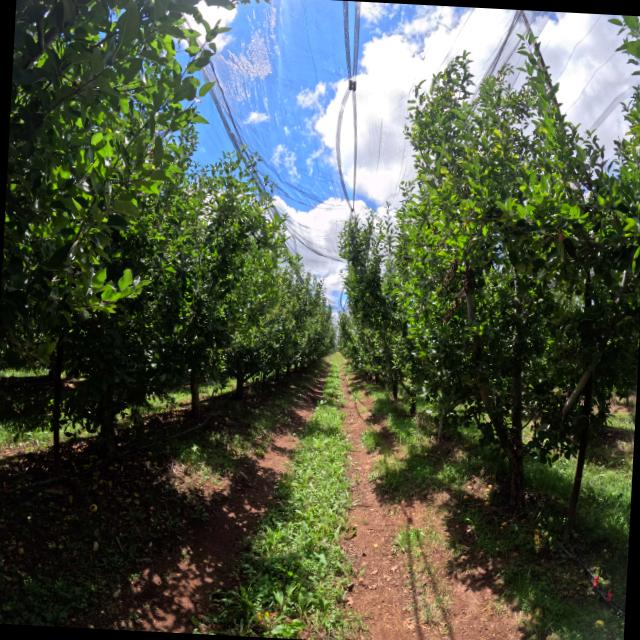-FireBlight-: (443, 259, 471, 323), (438, 259, 458, 297)
